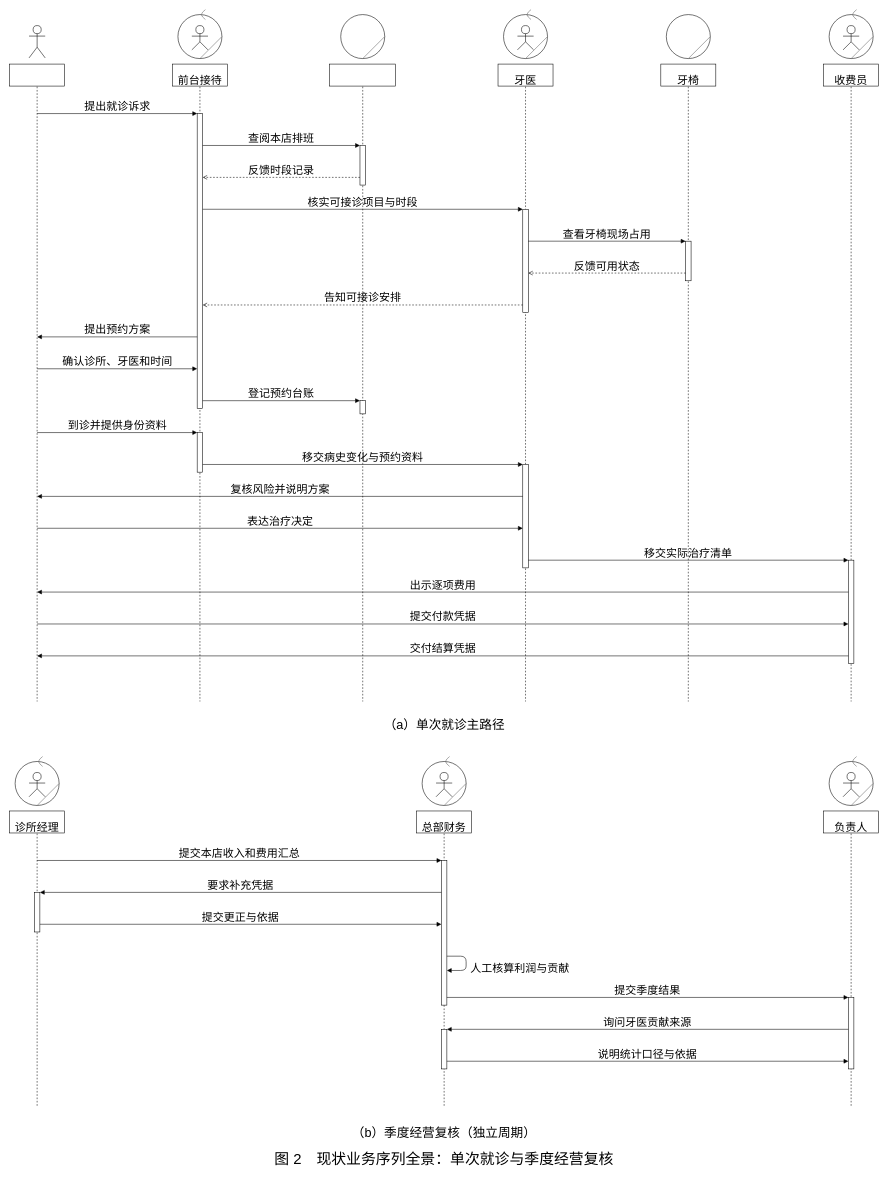
This 888x1178 diagram has some shape labels left out. Here are the shapes that lost their labels. From the top down, the centre of each, then its label:
At (x=37, y=75): "患者".
At (x=362, y=75): "本店排班表".
